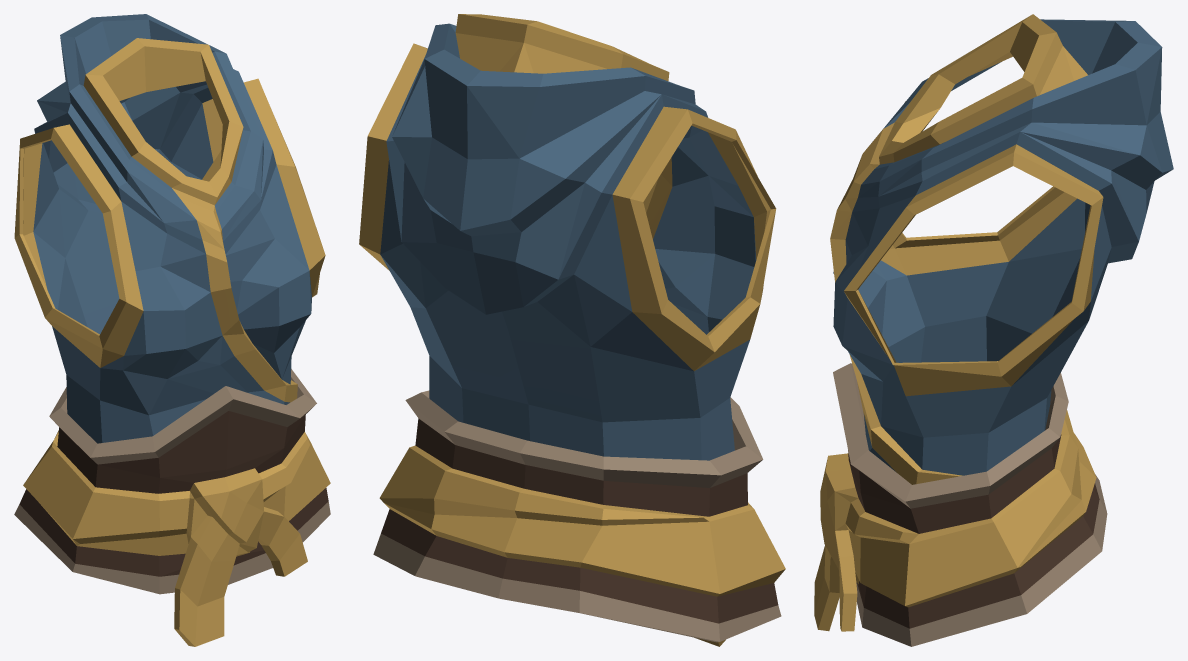
File: Chr_Torso_Female_05_Drop.fbx
3 renders of one model, left to right at view 1: azimuth 30°, elevation 25°; view 2: azimuth 150°, elevation 25°; view 3: azimuth 270°, elevation 25°, orthographic. The views are drawn at different scales.
Visible parts, largest first — view 1: Chr_Torso_Female_05_Static; view 2: Chr_Torso_Female_05_Static; view 3: Chr_Torso_Female_05_Static.
Part boxes in pixels (x1=…): Chr_Torso_Female_05_Static: x1=14, y1=14, x2=330, y2=646; Chr_Torso_Female_05_Static: x1=359, y1=14, x2=785, y2=646; Chr_Torso_Female_05_Static: x1=814, y1=14, x2=1173, y2=646.
Bounding box in the file's own units: 39.89 × 75.57 × 40.21.
